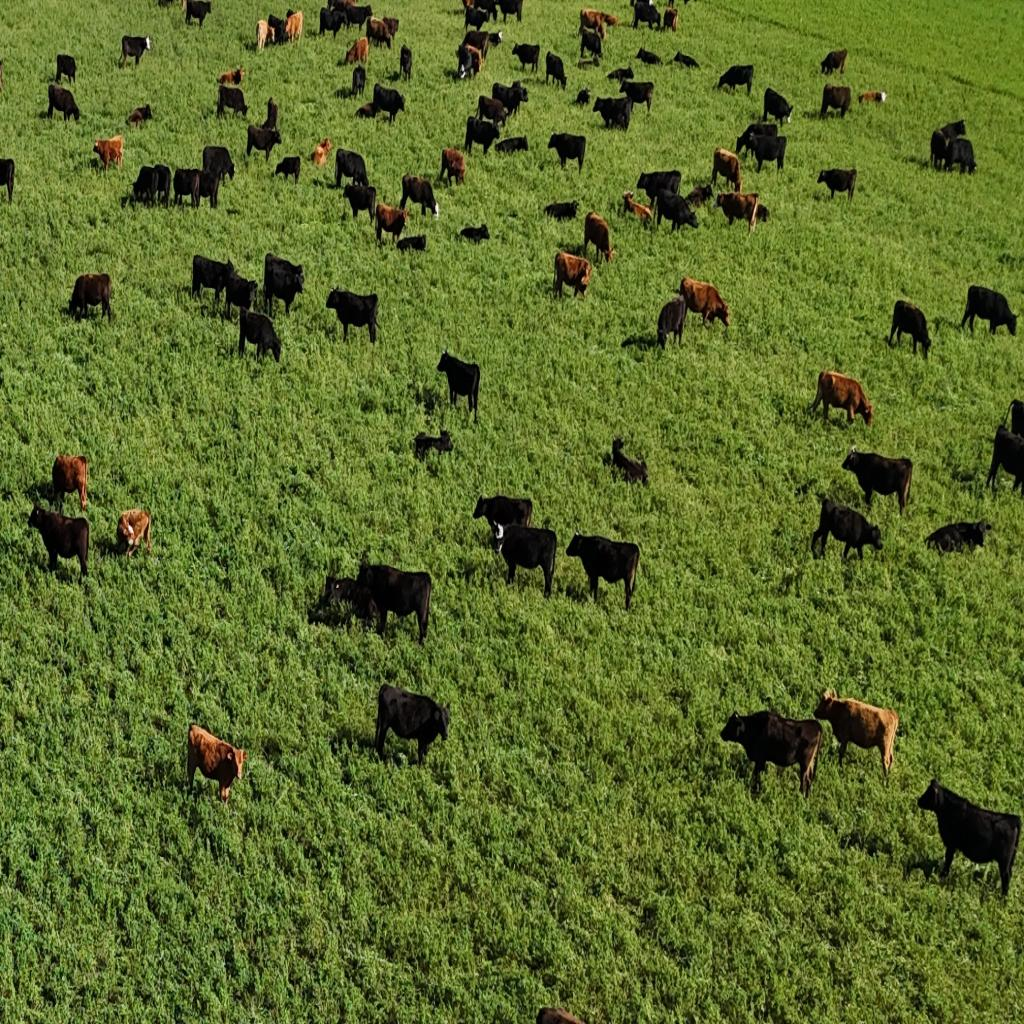cow: (919, 782, 1020, 904), (564, 510, 658, 623), (721, 707, 822, 800), (812, 689, 898, 779), (355, 559, 434, 646), (373, 684, 450, 768), (842, 446, 914, 517), (27, 505, 90, 583), (811, 495, 883, 563), (492, 521, 554, 598), (658, 282, 728, 350), (186, 726, 246, 804), (105, 487, 153, 583), (811, 371, 872, 428), (322, 574, 384, 629), (325, 288, 380, 348), (436, 349, 480, 420), (959, 286, 1017, 338), (986, 423, 1024, 501), (264, 252, 306, 318), (886, 301, 932, 359), (472, 493, 531, 537), (239, 306, 282, 364), (924, 520, 991, 556), (68, 272, 114, 324), (191, 253, 233, 308), (552, 250, 592, 304), (714, 190, 760, 235), (52, 454, 88, 511), (132, 158, 164, 222), (224, 262, 258, 320), (655, 190, 699, 234), (610, 438, 648, 487), (818, 28, 851, 82), (133, 164, 173, 208), (400, 173, 438, 219), (375, 201, 410, 249), (585, 210, 615, 265), (736, 121, 776, 161), (817, 167, 858, 205), (334, 147, 370, 190), (464, 116, 500, 159), (819, 75, 848, 127), (343, 179, 377, 223), (372, 83, 406, 126), (593, 94, 631, 132), (548, 132, 584, 172), (752, 133, 786, 175), (942, 137, 978, 176), (47, 84, 80, 126), (712, 147, 742, 192), (763, 86, 794, 128), (492, 81, 526, 119), (202, 145, 235, 184), (414, 429, 454, 461), (636, 169, 676, 201), (246, 125, 280, 162), (173, 168, 202, 211), (820, 84, 852, 121), (620, 80, 653, 115), (579, 8, 614, 41), (217, 84, 248, 121), (440, 147, 467, 189), (94, 135, 123, 174), (717, 63, 753, 94), (459, 29, 490, 65), (119, 34, 151, 68), (366, 16, 397, 51), (622, 192, 652, 228), (196, 169, 222, 209), (578, 28, 603, 66), (537, 1006, 589, 1024), (477, 92, 506, 124), (511, 42, 539, 75), (340, 3, 372, 31), (930, 129, 951, 171), (320, 9, 347, 40), (545, 50, 566, 89), (631, 0, 659, 29), (820, 48, 848, 76), (684, 184, 712, 212), (544, 200, 578, 222), (0, 157, 15, 204), (185, 0, 211, 27), (345, 36, 368, 66), (935, 119, 965, 142), (275, 156, 301, 182), (126, 104, 153, 129), (55, 54, 76, 86), (267, 14, 288, 45), (496, 0, 523, 24), (496, 136, 528, 156), (285, 9, 303, 44), (464, 6, 489, 31), (396, 234, 427, 254), (460, 224, 490, 244), (312, 138, 332, 168), (217, 65, 244, 87), (256, 19, 272, 51), (264, 97, 279, 131), (606, 66, 634, 84), (635, 48, 662, 66), (476, 0, 498, 22), (352, 66, 366, 99), (400, 44, 412, 82), (674, 52, 700, 69), (662, 6, 679, 32), (356, 102, 378, 120), (371, 82, 390, 102), (216, 84, 226, 118), (486, 31, 503, 51), (575, 86, 591, 107), (158, 0, 178, 12)
